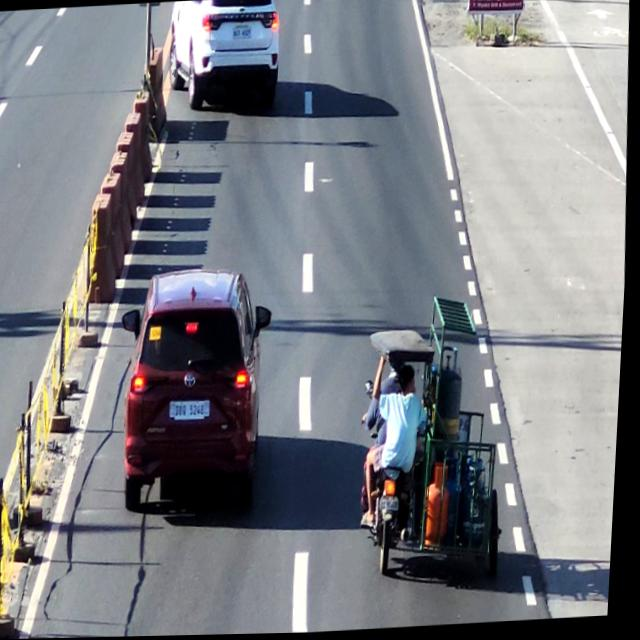Car: (123, 271, 272, 504), (167, 0, 281, 109)
License-Plate: (171, 396, 214, 428), (382, 495, 408, 515), (232, 23, 254, 42)
Tricycle: (360, 297, 519, 585)
